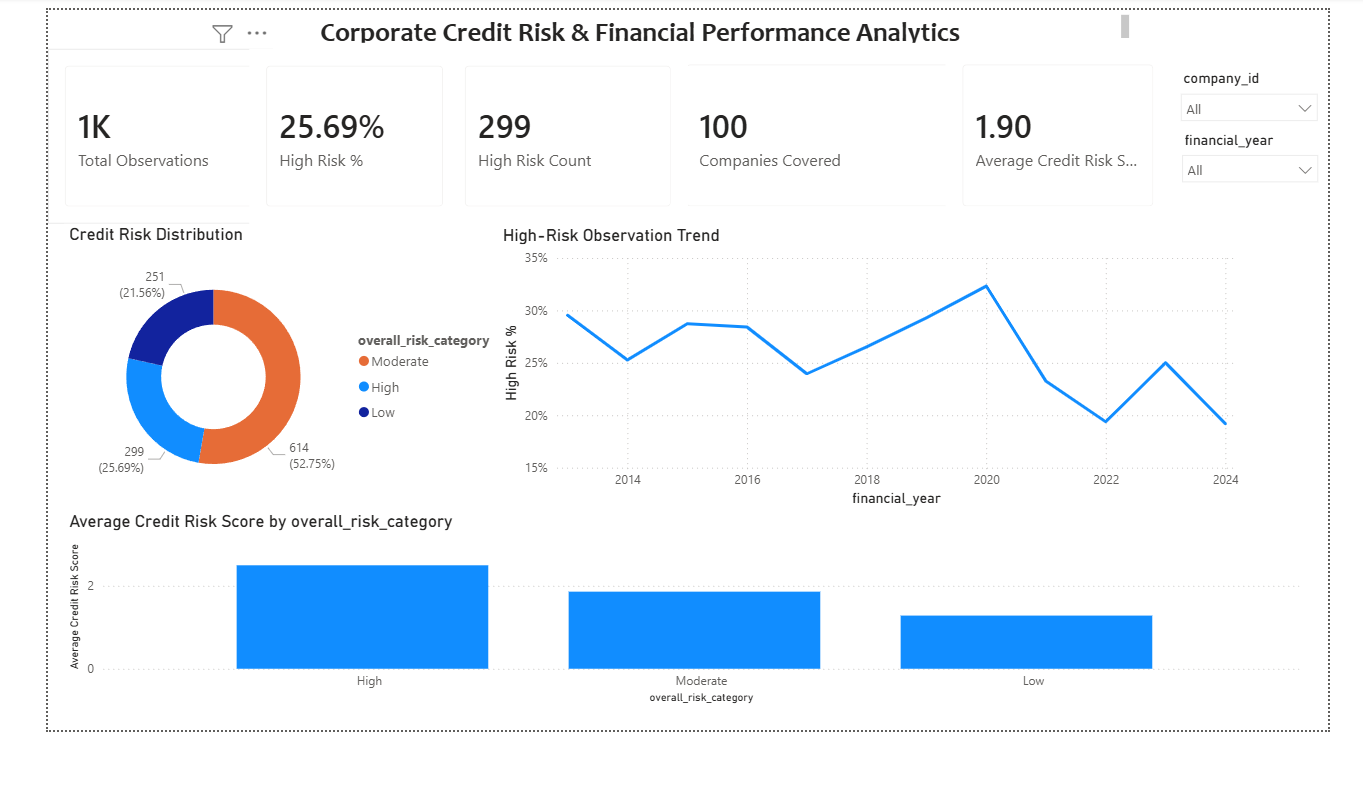

Layout of this report page (visuals, bound fields, positions):
{"tool":"powerbi","page":{"name":"Executive_Overview","canvas":[1280,720],"ordinal":0},"visuals":[{"type":"cardVisual","fields":{"Data":["credit_risk_analysis credit_risk_data.Total Observations"]},"box":[0,38.1,225,175.6],"z":0},{"type":"cardVisual","fields":{"Data":["credit_risk_analysis credit_risk_data.Companies Covered"]},"box":[621.2,37.5,313.8,176.2],"z":1000},{"type":"cardVisual","fields":{"Data":["credit_risk_analysis credit_risk_data.Average Credit Risk Score"]},"box":[898,38,225,176],"z":2000},{"type":"cardVisual","fields":{"Data":["credit_risk_analysis credit_risk_data.High Risk Count"]},"box":[400,38.1,240,175.6],"z":3000},{"type":"cardVisual","fields":{"Data":["credit_risk_analysis credit_risk_data.High Risk %"]},"box":[201.2,38.1,211.9,175.6],"z":4000},{"type":"donutChart","title":"Credit Risk Distribution","fields":{"Category":["credit_risk_analysis credit_risk_data.overall_risk_category"],"Y":["CountNonNull(credit_risk_analysis credit_risk_data.company_id)"]},"box":[16.2,213.8,433.8,287.5],"z":5000},{"type":"slicer","fields":{"Values":["credit_risk_analysis credit_risk_data.financial_year"]},"box":[1123.8,116.2,156.2,62.5],"z":6000},{"type":"slicer","fields":{"Values":["credit_risk_analysis credit_risk_data.company_id"]},"box":[1122.9,55.3,157.1,61.2],"z":7000},{"type":"lineChart","title":"High-Risk Observation Trend","fields":{"Category":["credit_risk_analysis credit_risk_data.financial_year"],"Y":["credit_risk_analysis credit_risk_data.High Risk %"]},"box":[450,214.4,745.6,286.7],"z":8000},{"type":"clusteredColumnChart","fields":{"Category":["credit_risk_analysis credit_risk_data.overall_risk_category"],"Y":["credit_risk_analysis credit_risk_data.Average Credit Risk Score"]},"box":[16.2,501.2,1240,197.5],"z":9000},{"type":"textbox","box":[267.5,0,818.8,37.5],"z":10000}]}

Visuals, with their boxes on the page's 1280x720 design canvas (x1, y1, x2, y2). These are canvas units, not pixel positions in the 1363x797 screenshot, which may show the page scaled, cropped or inside an application window:
cardVisual - credit_risk_analysis credit_risk_data.Total Observations: 0, 38, 225, 214
cardVisual - credit_risk_analysis credit_risk_data.Companies Covered: 621, 38, 935, 214
cardVisual - credit_risk_analysis credit_risk_data.Average Credit Risk Score: 898, 38, 1123, 214
cardVisual - credit_risk_analysis credit_risk_data.High Risk Count: 400, 38, 640, 214
cardVisual - credit_risk_analysis credit_risk_data.High Risk %: 201, 38, 413, 214
"Credit Risk Distribution" donutChart: 16, 214, 450, 501
slicer - credit_risk_analysis credit_risk_data.financial_year: 1124, 116, 1280, 179
slicer - credit_risk_analysis credit_risk_data.company_id: 1123, 55, 1280, 116
"High-Risk Observation Trend" lineChart: 450, 214, 1196, 501
clusteredColumnChart - credit_risk_analysis credit_risk_data.overall_risk_category x credit_risk_analysis credit_risk_data.Average Credit Risk Score: 16, 501, 1256, 699
textbox: 268, 0, 1086, 38
